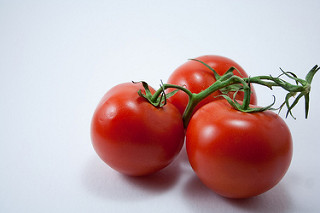tomato: (185, 107, 298, 190), (93, 81, 180, 177), (173, 56, 259, 104)
